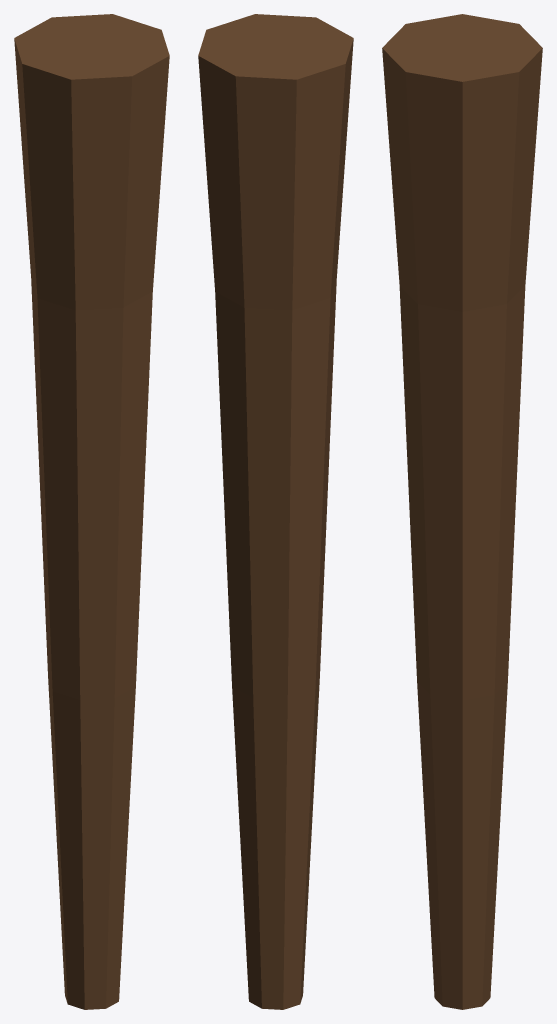
File: g-club.glb
3 views of the same model, side by side, from view 1: azimuth 30°, elevation 25°; view 2: azimuth 150°, elevation 25°; view 3: azimuth 270°, elevation 25° (orthographic).
Parts seen in each view (by area): view 1: g-club; view 2: g-club; view 3: g-club.
Boxes of the visible parts, <box> form: g-club: <box>14,14,169,1009</box>; g-club: <box>198,14,353,1009</box>; g-club: <box>382,14,542,1009</box>.
Bounding box in the file's own units: 0.092 × 0.6 × 0.092.
